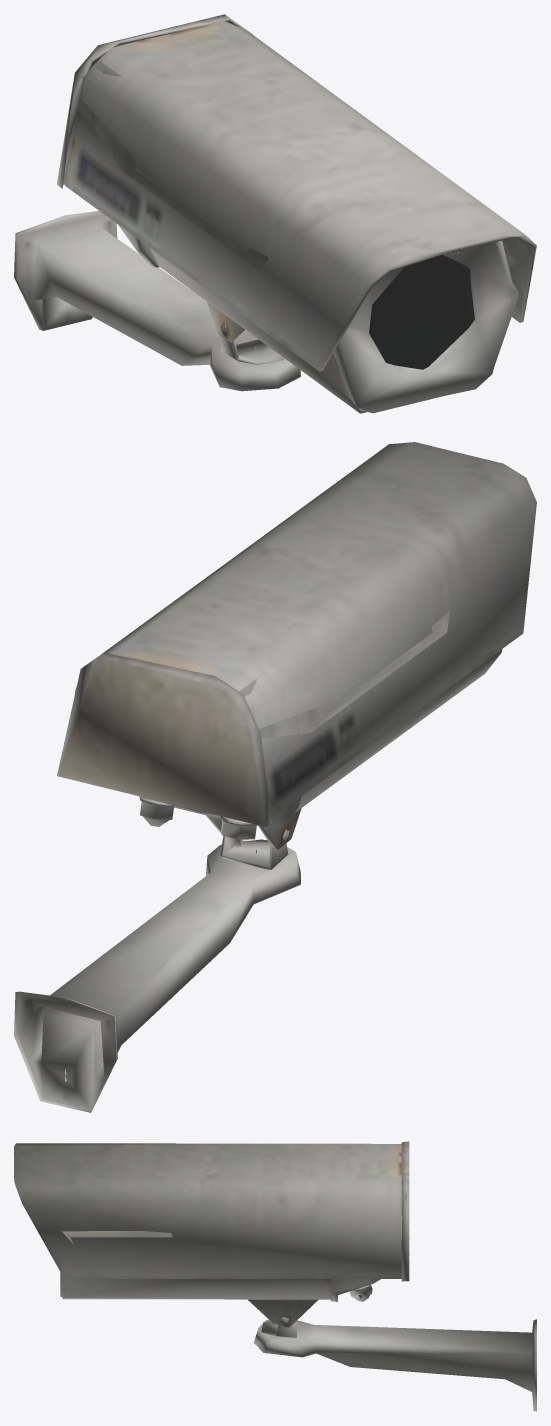
Rendered from securityCam.glb.
The picture shows the model from 3 angles, top to bottom: view 1: azimuth 30°, elevation 25°; view 2: azimuth 150°, elevation 25°; view 3: azimuth 270°, elevation 25°; orthographic projection. The views are drawn at different scales.
Parts seen in each view (by area): view 1: security_camera_01; view 2: security_camera_01; view 3: security_camera_01.
Part boxes in pixels (x1,y1,x2,y2): security_camera_01: (14, 14, 536, 413); security_camera_01: (14, 442, 536, 1112); security_camera_01: (14, 1141, 536, 1411).
Size of the model in its own units: 0.1696 by 0.2854 by 0.5536.
2 materials, 2 textured.
